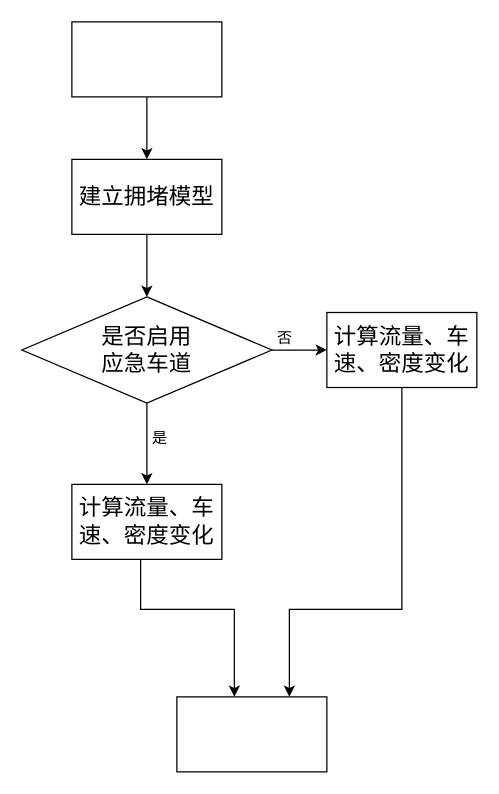
This 499x794 diagram has some shape labels left out. Each missing label, with the box of its shape:
对比分析结果: (176, 696, 327, 772)
数据处理: (71, 21, 222, 97)
